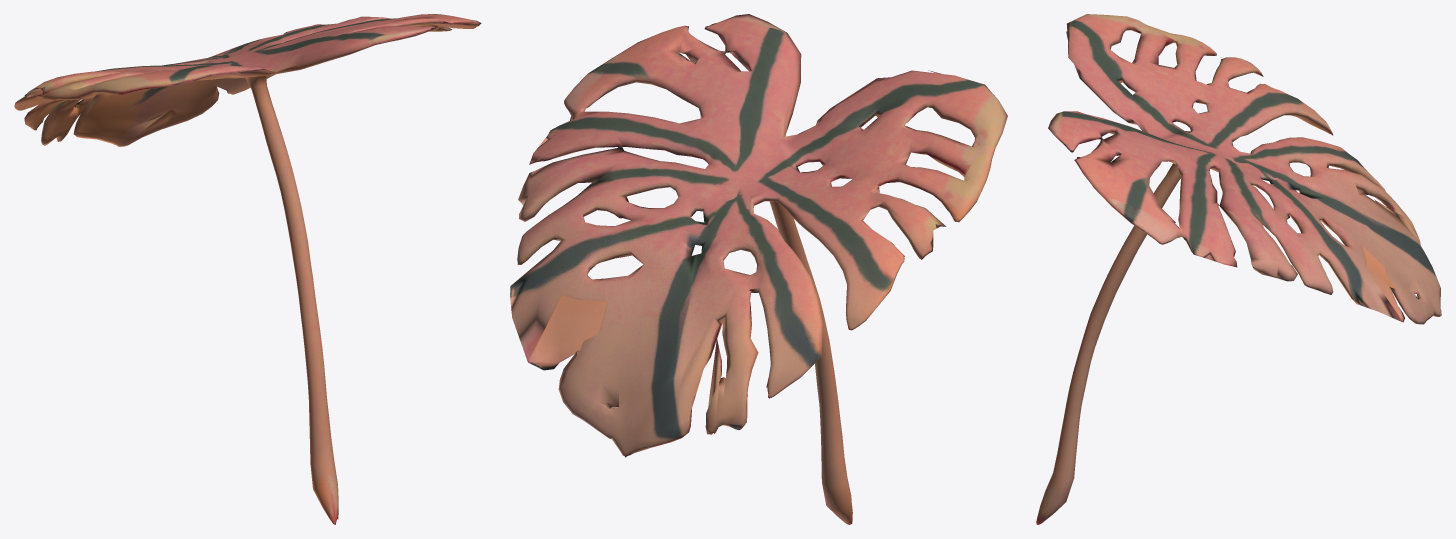
File: mon_variegata_pink_v1.glb
3 views of the same model, side by side, from view 1: azimuth 30°, elevation 25°; view 2: azimuth 150°, elevation 25°; view 3: azimuth 270°, elevation 25° (orthographic). The views are drawn at different scales.
Visible parts, largest first — view 1: world; view 2: world; view 3: world.
Part boxes in pixels (x1=…): world: x1=14, y1=14, x2=481, y2=524; world: x1=510, y1=14, x2=1007, y2=524; world: x1=1036, y1=14, x2=1441, y2=524.
Size of the model in its own units: 1.83 by 2 by 1.67.
Materials: 1 (1 with a texture image).
